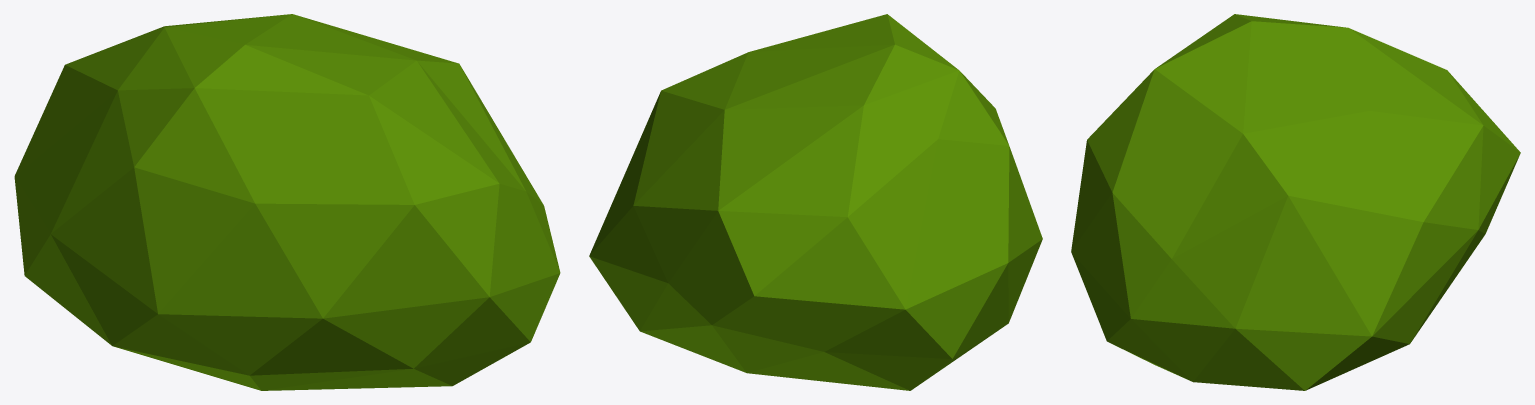
Rendered from plant_bush_play_b.glb.
The picture shows the model from 3 angles, left to right: view 1: azimuth 30°, elevation 25°; view 2: azimuth 150°, elevation 25°; view 3: azimuth 270°, elevation 25°; orthographic projection. The views are drawn at different scales.
Parts seen in each view (by area): view 1: bush.002; view 2: bush.002; view 3: bush.002.
Part boxes in pixels (x1,y1,x2,y2): bush.002: (14,14,560,390); bush.002: (589,14,1042,390); bush.002: (1071,14,1520,390).
Size of the model in its own units: 1.46 by 1.05 by 1.51.
